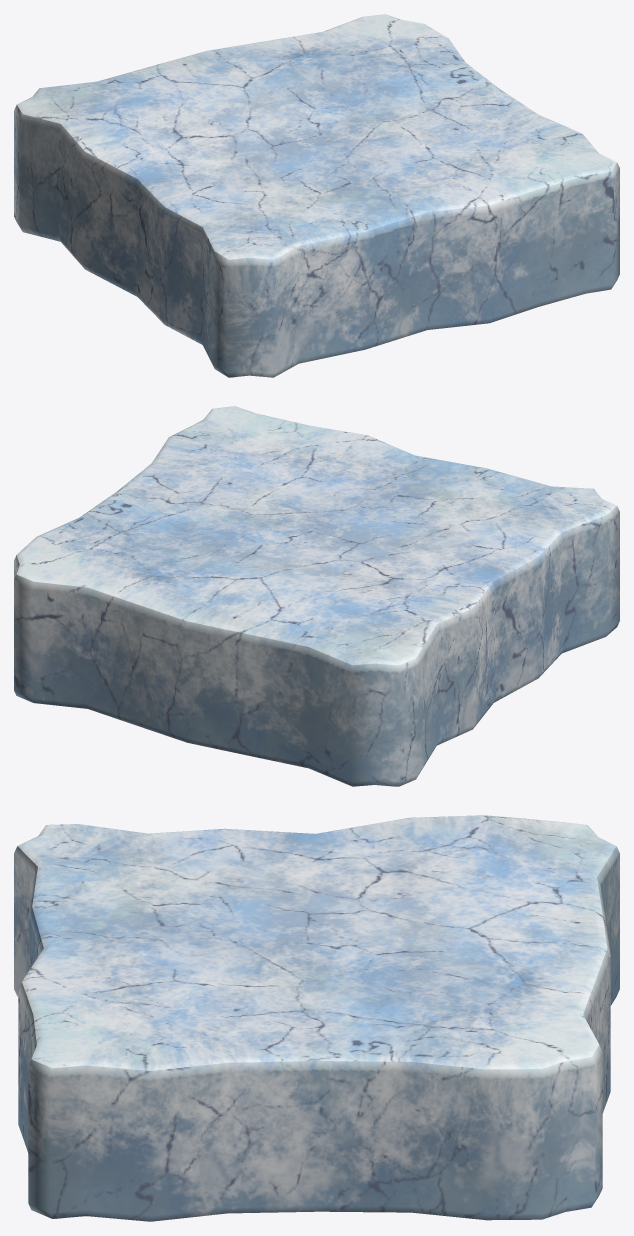
The model's file is 3stage.fbx.
3 renders of one model, top to bottom at view 1: azimuth 30°, elevation 25°; view 2: azimuth 150°, elevation 25°; view 3: azimuth 270°, elevation 25°, orthographic. The views are drawn at different scales.
Parts seen in each view (by area): view 1: pCube535; view 2: pCube535; view 3: pCube535.
Boxes of the visible parts, x1,y1,x2,y2 form: pCube535: [14, 14, 619, 377]; pCube535: [14, 406, 619, 786]; pCube535: [14, 815, 619, 1221].
Size of the model in its own units: 6.9 by 2.17 by 7.
Materials: 1 (1 with a texture image).
